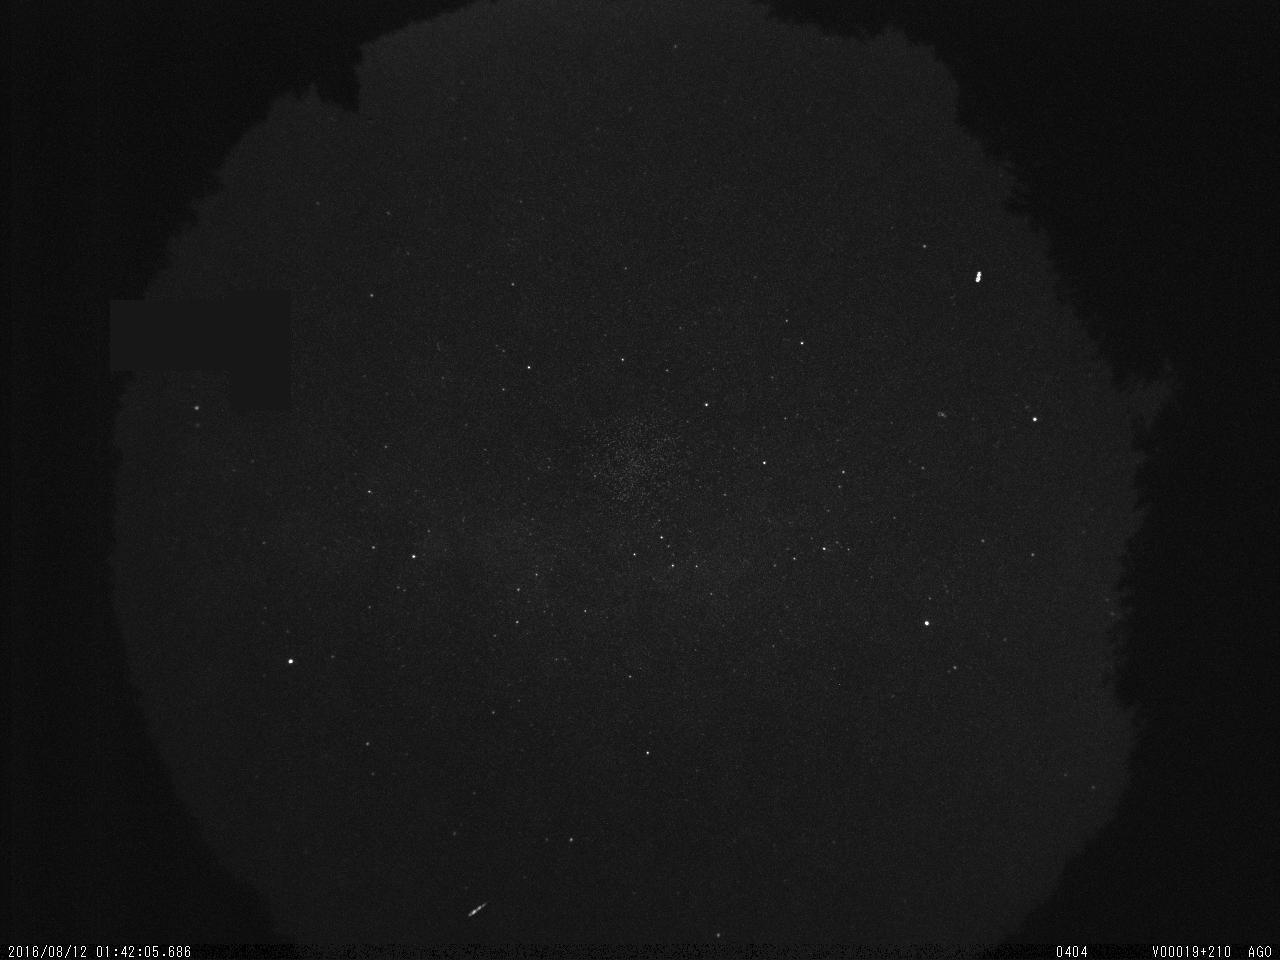meteor: (455, 889, 504, 927)
